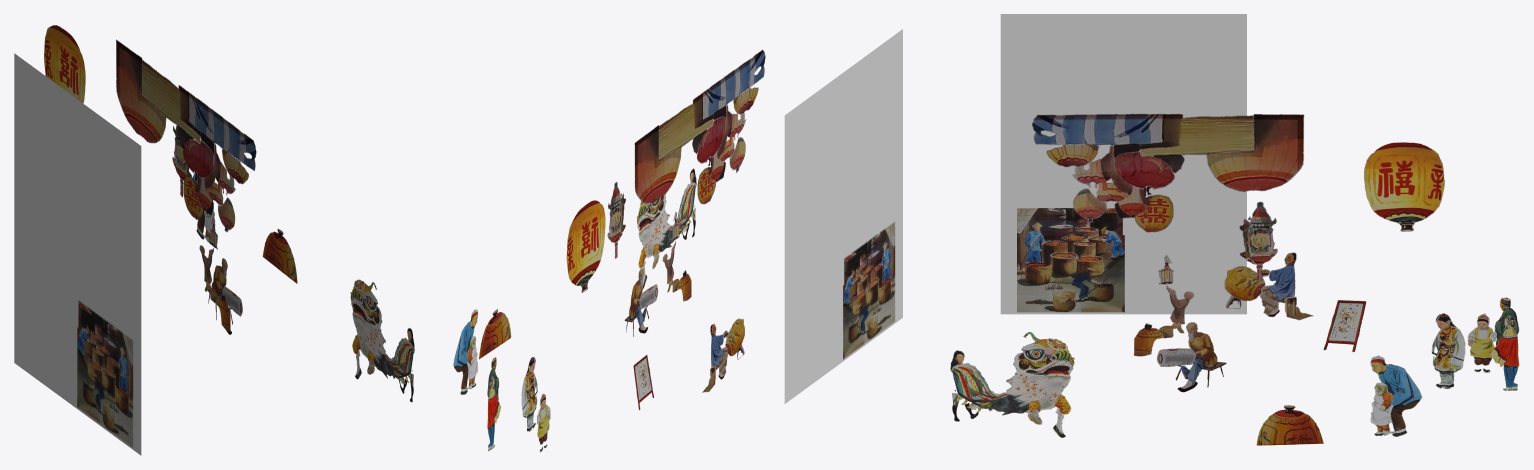
The model's file is jlee3.glb.
3 renders of one model, left to right at view 1: azimuth 30°, elevation 25°; view 2: azimuth 150°, elevation 25°; view 3: azimuth 270°, elevation 25°, orthographic. The views are drawn at different scales.
Parts seen in each view (by area): view 1: Shrimp Camp 20210810_144957, Lantern-makers-20210406_094212_1_0004_Layer-5, Chinese New Year 1559803198869-2010111, Chinese-Opera-1565907847218-ChinatownTheater_6_0000_Layer-1, Lantern-makers-20210406_094212_1_0001_Layer-1, Lantern-makers-20210406_094212_1_0005_Layer-6, Lantern-makers-20210406_094212_1_0002_Layer-3, Lantern-makers-20210406_094212_1_0003_Layer-4, Chinese-Opera-1565907847218-ChinatownTheater_6_0006_Layer-7; view 2: Shrimp Camp 20210810_144957, Lantern-makers-20210406_094212_1_0004_Layer-5, Chinese New Year 1559803198869-2010111, Chinese-Opera-1565907847218-ChinatownTheater_6_0000_Layer-1, Lantern-makers-20210406_094212_1_0000_Layer-2, Chinese-Opera-1565907847218-ChinatownTheater_6_0006_Layer-7, Lantern-makers-20210406_094212_1_0002_Layer-3, Lantern-makers-20210406_094212_1_0001_Layer-1, Chinese-Opera-1565907847218-ChinatownTheater_6_0002_Layer-4, Lantern-makers-20210406_094212_1_0005_Layer-6, Chinese-Opera-1565907847218-ChinatownTheater_6_0003_Layer-2, Lantern-makers-20210406_094212_1_0003_Layer-4 (+2 smaller); view 3: Shrimp Camp 20210810_144957, Lantern-makers-20210406_094212_1_0004_Layer-5, Chinese New Year 1559803198869-2010111, Chinese-Opera-1565907847218-ChinatownTheater_6_0000_Layer-1, Lantern-makers-20210406_094212_1_0000_Layer-2, Chinese-Opera-1565907847218-ChinatownTheater_6_0006_Layer-7, Lantern-makers-20210406_094212_1_0002_Layer-3, Lantern-makers-20210406_094212_1_0001_Layer-1, Chinese-Opera-1565907847218-ChinatownTheater_6_0002_Layer-4, Chinese-Opera-1565907847218-ChinatownTheater_6_0003_Layer-2, Lantern-makers-20210406_094212_1_0005_Layer-6, Lantern-makers-20210406_094212_1_0003_Layer-4 (+2 smaller).
Part boxes in pixels (bbox=[...]): Shrimp Camp 20210810_144957: bbox=[14, 53, 141, 455]; Lantern-makers-20210406_094212_1_0004_Layer-5: bbox=[116, 39, 256, 231]; Chinese New Year 1559803198869-2010111: bbox=[350, 279, 414, 402]; Chinese-Opera-1565907847218-ChinatownTheater_6_0000_Layer-1: bbox=[44, 25, 85, 103]; Lantern-makers-20210406_094212_1_0001_Layer-1: bbox=[262, 229, 297, 283]; Lantern-makers-20210406_094212_1_0005_Layer-6: bbox=[199, 216, 230, 332]; Lantern-makers-20210406_094212_1_0002_Layer-3: bbox=[208, 258, 242, 334]; Lantern-makers-20210406_094212_1_0003_Layer-4: bbox=[172, 125, 191, 197]; Chinese-Opera-1565907847218-ChinatownTheater_6_0006_Layer-7: bbox=[192, 172, 215, 245]; Shrimp Camp 20210810_144957: bbox=[784, 29, 902, 403]; Lantern-makers-20210406_094212_1_0004_Layer-5: bbox=[634, 49, 765, 204]; Chinese New Year 1559803198869-2010111: bbox=[636, 168, 696, 288]; Chinese-Opera-1565907847218-ChinatownTheater_6_0000_Layer-1: bbox=[566, 200, 605, 292]; Lantern-makers-20210406_094212_1_0000_Layer-2: bbox=[702, 318, 744, 392]; Chinese-Opera-1565907847218-ChinatownTheater_6_0006_Layer-7: bbox=[453, 309, 477, 394]; Lantern-makers-20210406_094212_1_0002_Layer-3: bbox=[624, 268, 658, 336]; Lantern-makers-20210406_094212_1_0001_Layer-1: bbox=[479, 309, 511, 359]; Chinese-Opera-1565907847218-ChinatownTheater_6_0002_Layer-4: bbox=[521, 357, 537, 431]; Lantern-makers-20210406_094212_1_0005_Layer-6: bbox=[662, 211, 691, 301]; Chinese-Opera-1565907847218-ChinatownTheater_6_0003_Layer-2: bbox=[487, 357, 500, 451]; Lantern-makers-20210406_094212_1_0003_Layer-4: bbox=[607, 182, 625, 258]; Shrimp Camp 20210810_144957: bbox=[1000, 14, 1246, 314]; Lantern-makers-20210406_094212_1_0004_Layer-5: bbox=[1032, 114, 1304, 232]; Chinese New Year 1559803198869-2010111: bbox=[950, 332, 1074, 437]; Chinese-Opera-1565907847218-ChinatownTheater_6_0000_Layer-1: bbox=[1364, 142, 1444, 231]; Lantern-makers-20210406_094212_1_0000_Layer-2: bbox=[1224, 252, 1313, 320]; Chinese-Opera-1565907847218-ChinatownTheater_6_0006_Layer-7: bbox=[1370, 355, 1421, 436]; Lantern-makers-20210406_094212_1_0002_Layer-3: bbox=[1157, 322, 1226, 392]; Lantern-makers-20210406_094212_1_0001_Layer-1: bbox=[1256, 405, 1323, 445]; Chinese-Opera-1565907847218-ChinatownTheater_6_0002_Layer-4: bbox=[1431, 313, 1465, 388]; Chinese-Opera-1565907847218-ChinatownTheater_6_0003_Layer-2: bbox=[1490, 297, 1519, 390]; Lantern-makers-20210406_094212_1_0005_Layer-6: bbox=[1134, 255, 1194, 356]; Lantern-makers-20210406_094212_1_0003_Layer-4: bbox=[1239, 201, 1277, 280].
Bounding box in the file's own units: 18.85 × 20.97 × 34.42.
Materials: 14 (14 with a texture image).
